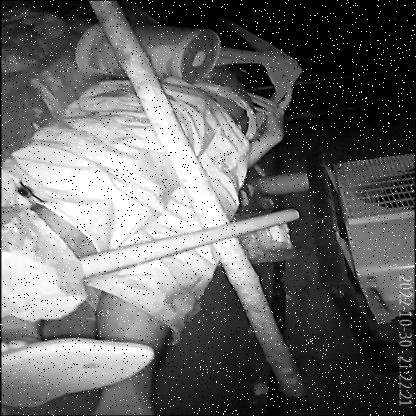hand: (233, 79, 298, 160), (1, 4, 82, 44)
